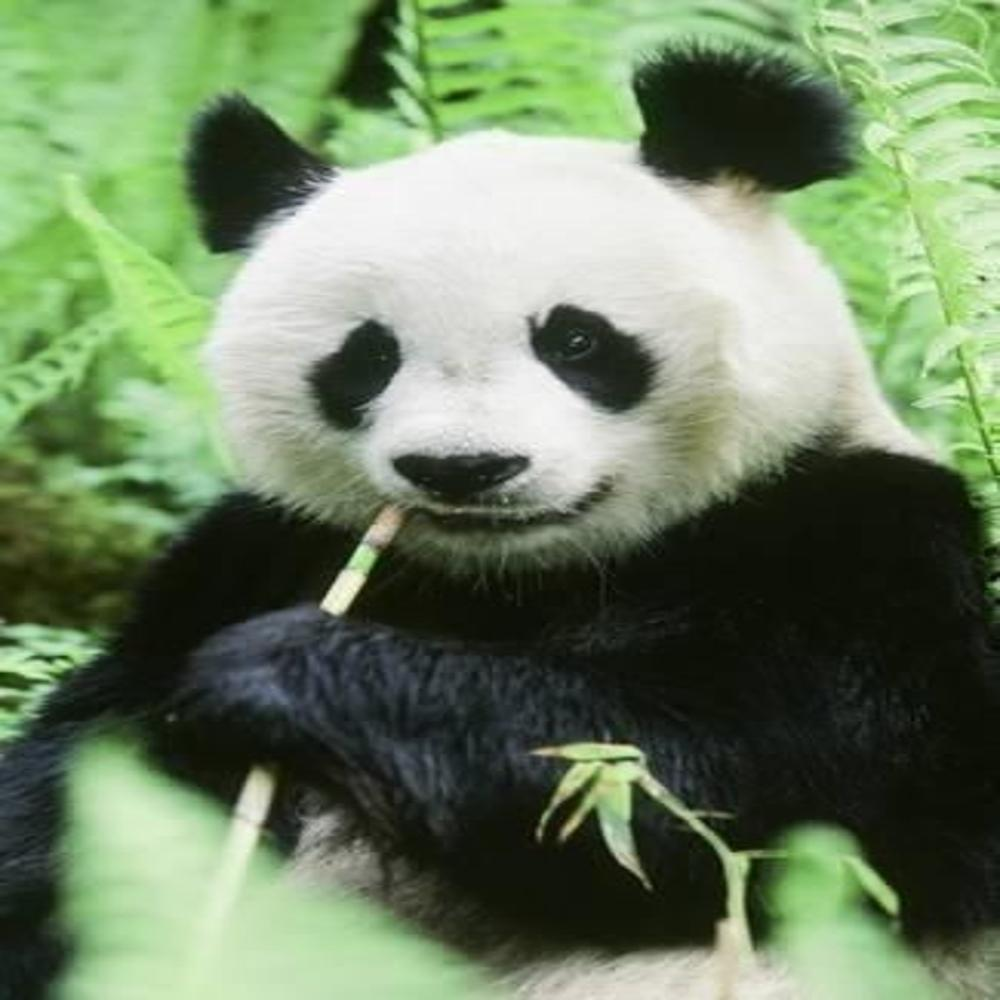panda: (136, 40, 1000, 852)
